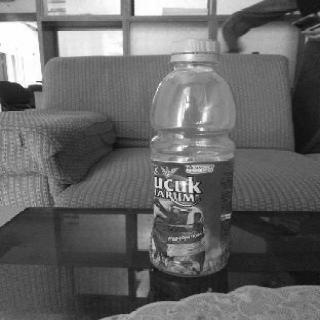plastic_bottles: (146, 36, 240, 279)
